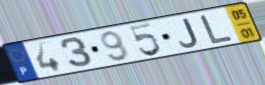3: (60, 36, 95, 68)
4: (38, 40, 65, 74)
5: (128, 21, 164, 58)
9: (99, 30, 131, 63)
J: (178, 17, 201, 48)
L: (199, 13, 236, 45)
